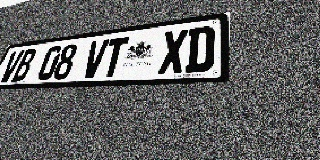0: (35, 45, 64, 81)
8: (51, 43, 80, 80)
B: (11, 48, 38, 82)
D: (185, 25, 215, 73)
T: (100, 37, 129, 77)
V: (80, 39, 109, 78), (0, 50, 25, 83)
X: (158, 29, 188, 74)
